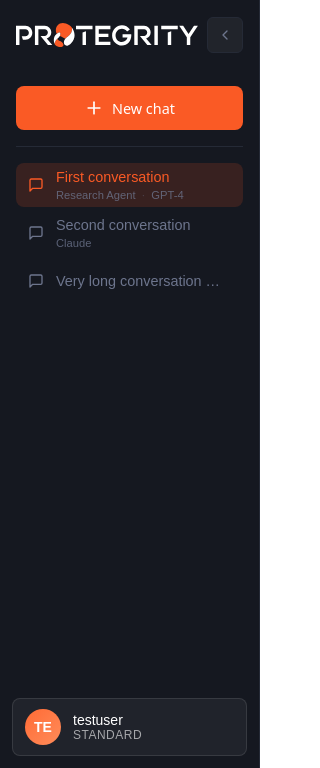
Test case: Sidebar Component › Collapsed State › toggles collapsed state when toggle button is clicked
This screenshot has width=320, height=768.
Click to collapse
Click the button with class "sidebar-toggle-btn".
click(225, 35)  # box [207, 17, 243, 53]
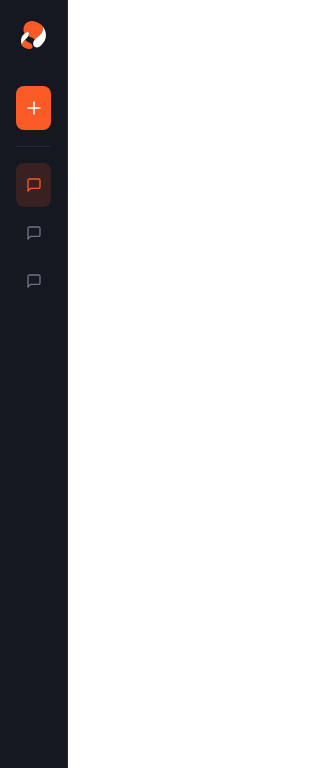
Check: the element with class "sidebar-collapsed" is shown, box [0, 0, 68, 767]
